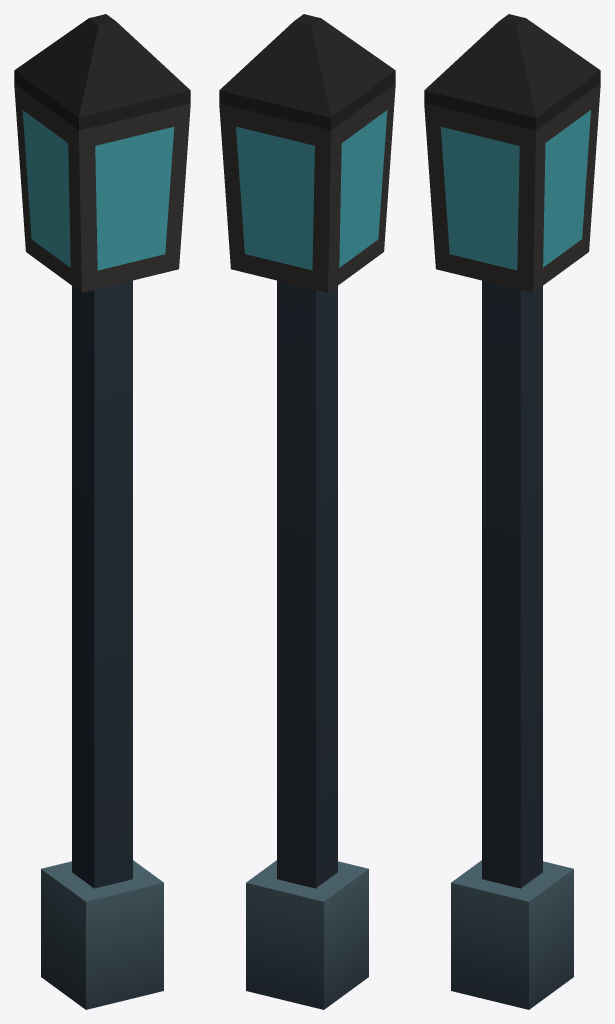
The model's file is Flashlight_3.fbx.
The picture shows the model from 3 angles, left to right: view 1: azimuth 30°, elevation 25°; view 2: azimuth 150°, elevation 25°; view 3: azimuth 330°, elevation 25°; orthographic projection.
Visible parts, largest first — view 1: Flashlight_3; view 2: Flashlight_3; view 3: Flashlight_3.
Boxes of the visible parts, x1=… form: Flashlight_3: x1=14, y1=14, x2=190, y2=1009; Flashlight_3: x1=219, y1=14, x2=395, y2=1009; Flashlight_3: x1=424, y1=14, x2=600, y2=1009.
Bounding box in the file's own units: 59.62 × 486 × 59.06.
